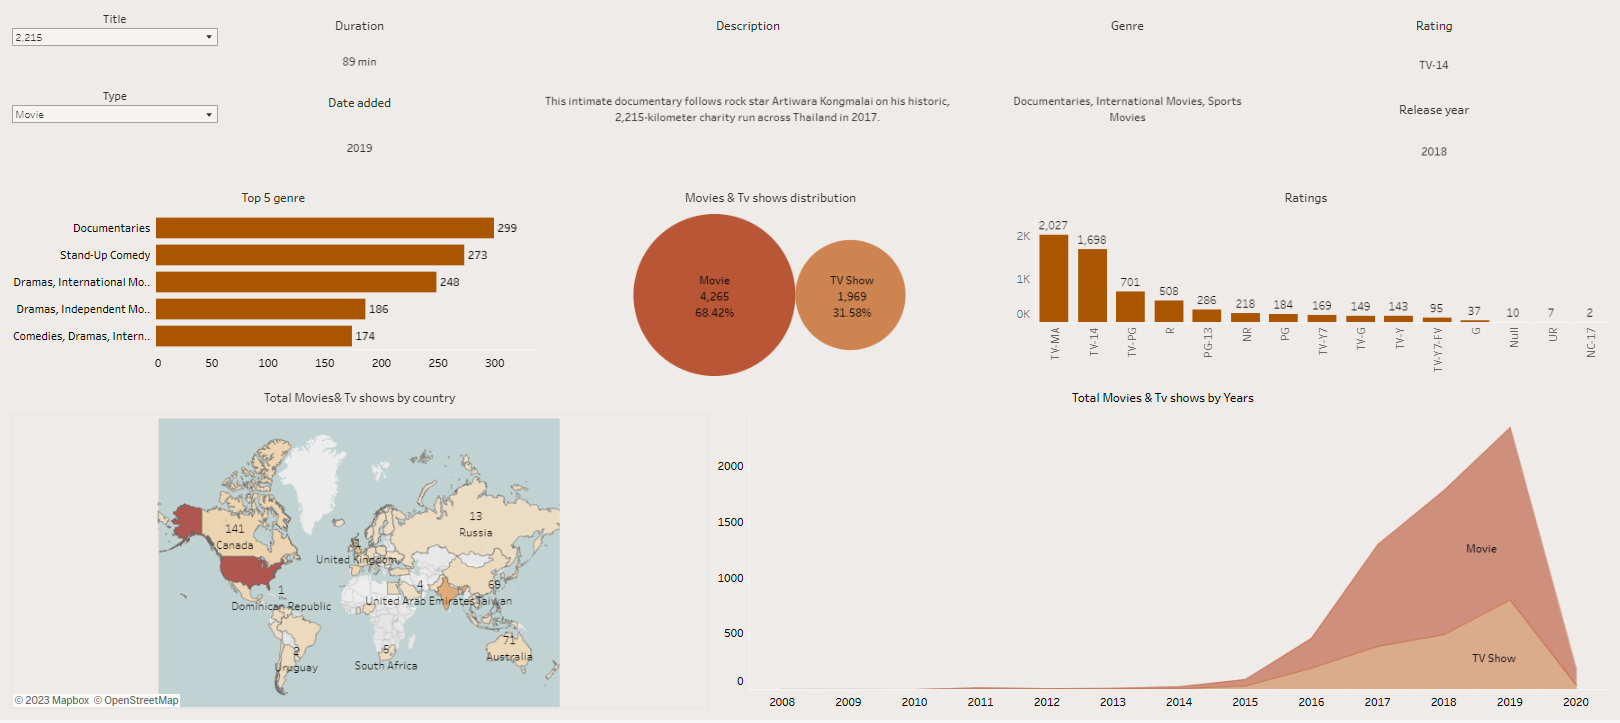

The dashboard page shown, as its layout file describes it:
{"tool":"tableau","page":{"name":"Netflix","canvas":[1800,800],"ordinal":0},"visuals":[{"type":"filter","title":"Description","param":"[federated.0duobaf0t11jp91c3tjko1o1i50l].[none:title:nk]","box":[8,8,239,86]},{"type":"worksheet","title":"Duration","mark":"Automatic","box":[247,8,304.5,86]},{"type":"worksheet","title":"Description","mark":"Automatic","box":[551.5,8,558.5,192]},{"type":"worksheet","title":"Genre","mark":"Automatic","box":[1110,8,285,192]},{"type":"worksheet","title":"Rating","mark":"Automatic","box":[1395,8,397,94]},{"type":"filter","title":"Description","param":"[federated.0duobaf0t11jp91c3tjko1o1i50l].[none:type:nk]","box":[8,94,239,106]},{"type":"worksheet","title":"Date added","mark":"Automatic","box":[247,94,304.5,106]},{"type":"worksheet","title":"Release year","mark":"Automatic","box":[1395,102,397,98]},{"type":"worksheet","title":"Top 5 genre ","mark":"Automatic","rows":["listed_in"],"cols":["show_id"],"box":[8,200,594.3,222]},{"type":"worksheet","title":"Movies & Tv shows distribution","mark":"Circle","box":[602.3,200,507.5,222]},{"type":"worksheet","title":"Ratings","mark":"Automatic","rows":["show_id"],"cols":["rating"],"box":[1109.8,200,682.2,222]},{"type":"worksheet","title":"Total movies & Tv shows by country","mark":"Multipolygon","box":[8,422,784,370]},{"type":"worksheet","title":"Total Movies & tv shows by years","mark":"Area","rows":["show_id"],"cols":["date_added"],"box":[792,422,1000,370]}]}

Visuals, with their boxes in screenshot pixels (x1, y1, x2, y2), scaled from the page's 1800x800 canvas onto the 1620x723 screenshot:
"Description" filter: BBox(7, 7, 222, 85)
"Duration" worksheet: BBox(222, 7, 496, 85)
"Description" worksheet: BBox(496, 7, 999, 181)
"Genre" worksheet: BBox(999, 7, 1256, 181)
"Rating" worksheet: BBox(1256, 7, 1613, 92)
"Description" filter: BBox(7, 85, 222, 181)
"Date added" worksheet: BBox(222, 85, 496, 181)
"Release year" worksheet: BBox(1256, 92, 1613, 181)
"Top 5 genre " worksheet: BBox(7, 181, 542, 381)
"Movies & Tv shows distribution" worksheet (Circle marks): BBox(542, 181, 999, 381)
"Ratings" worksheet: BBox(999, 181, 1613, 381)
"Total movies & Tv shows by country" worksheet (Multipolygon marks): BBox(7, 381, 713, 716)
"Total Movies & tv shows by years" worksheet (Area marks): BBox(713, 381, 1613, 716)
